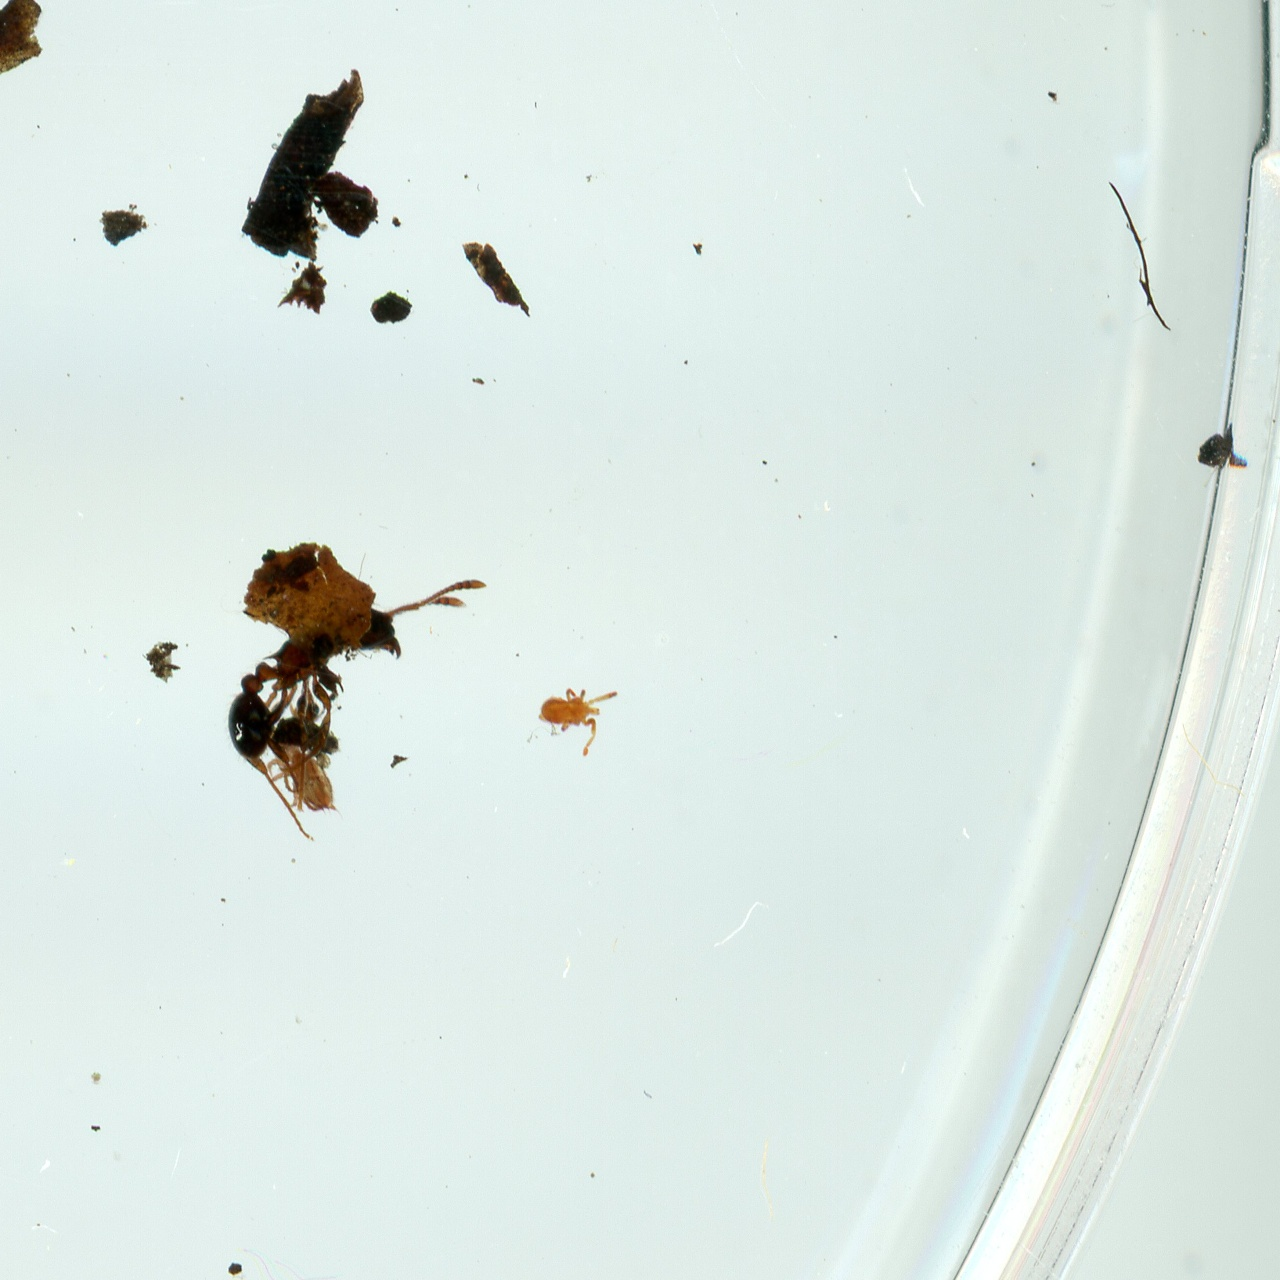arthropod: (182, 498, 492, 874), (537, 685, 621, 758), (266, 754, 343, 816)
